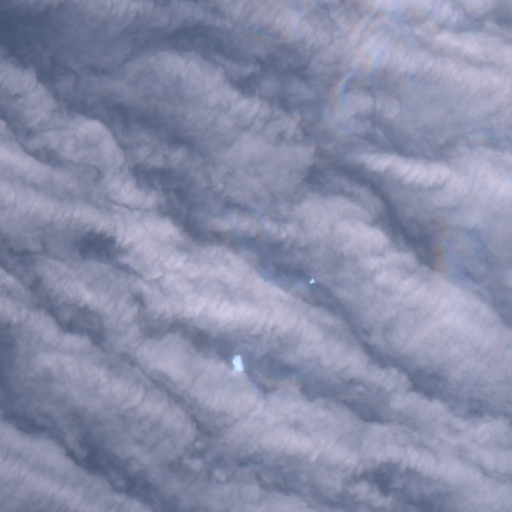Iceberg: (233, 354, 243, 370), (309, 278, 314, 283)
